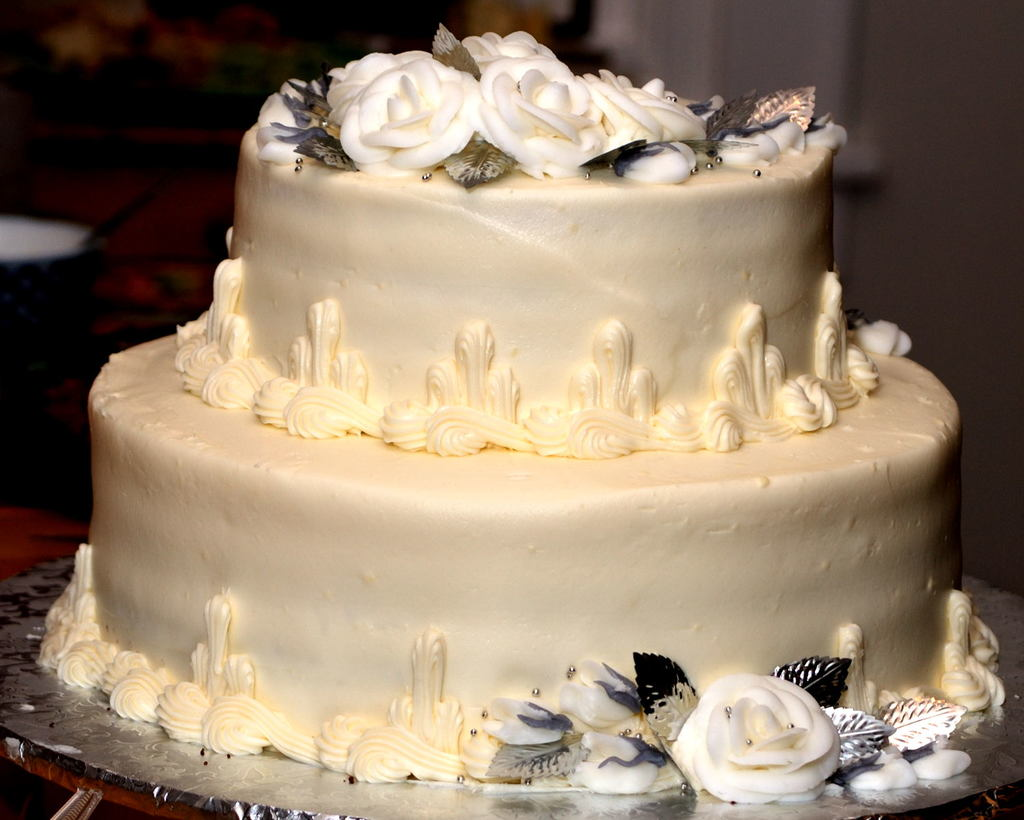cake: (34, 25, 1004, 804)
